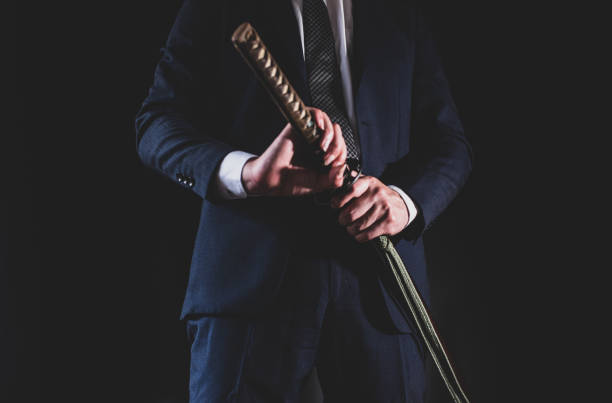knife: (229, 19, 473, 403)
